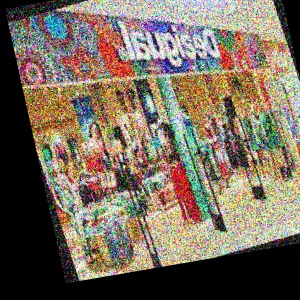desigual: (168, 0, 272, 32)
